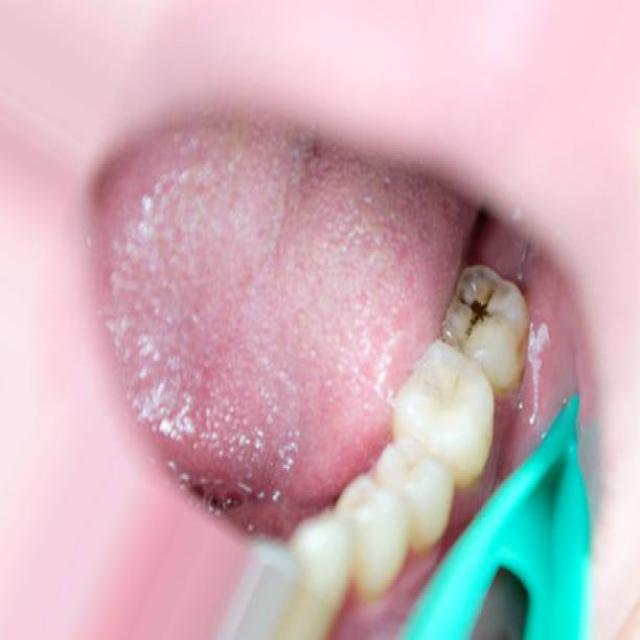caries: (437, 253, 519, 373)
